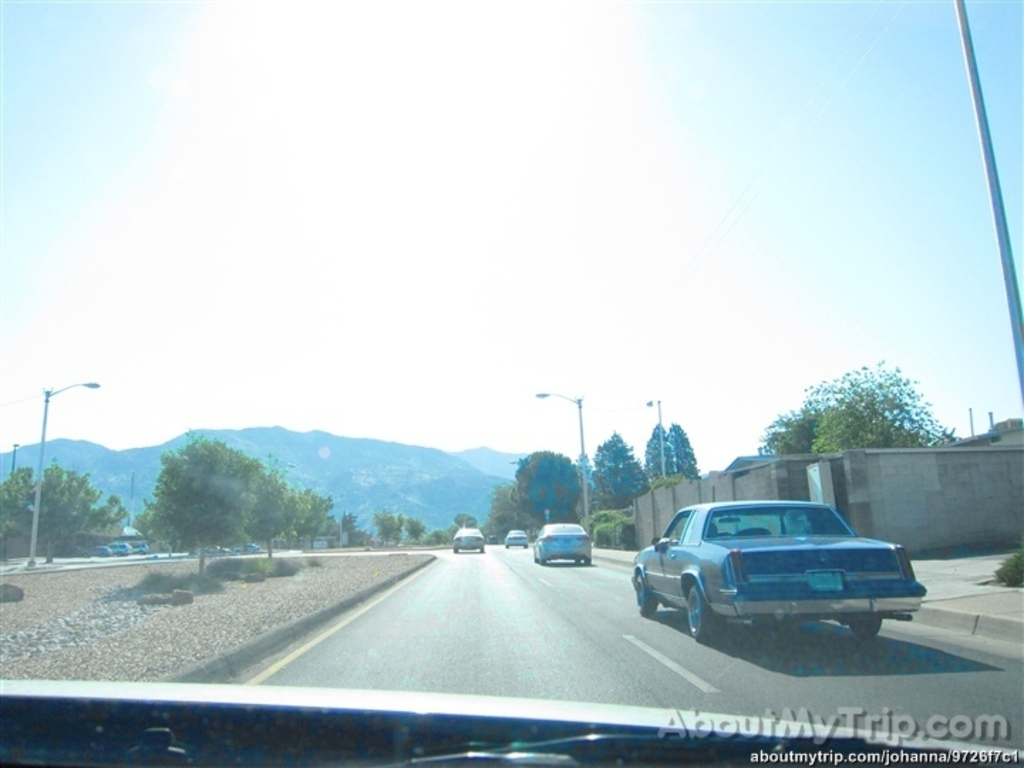Car: (628, 492, 927, 655), (530, 516, 594, 570), (446, 526, 489, 556), (503, 523, 531, 547)
